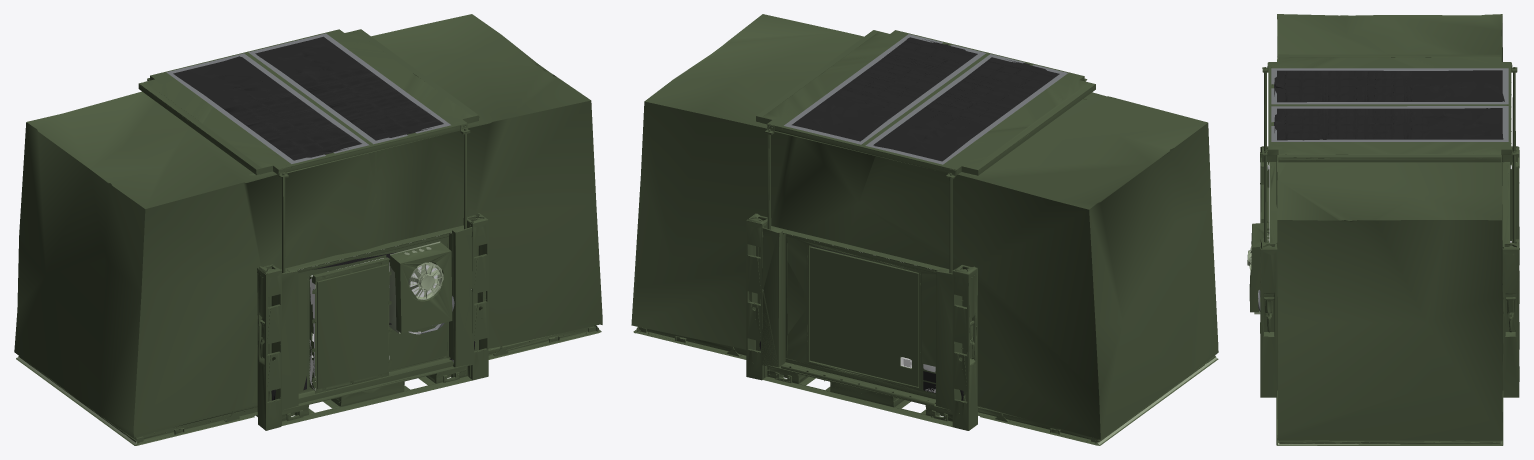
File: trecc-deployed-green.glb
3 renders of one model, left to right at view 1: azimuth 30°, elevation 25°; view 2: azimuth 150°, elevation 25°; view 3: azimuth 270°, elevation 25°, orthographic. The views are drawn at different scales.
Parts seen in each view (by area): view 1: Solid4340; view 2: Solid4340; view 3: Solid4340.
Boxes of the visible parts, x1,y1,x2,y2 form: Solid4340: [14, 14, 602, 445]; Solid4340: [631, 14, 1218, 445]; Solid4340: [1247, 14, 1519, 445].
Bounding box in the file's own units: 4.51 × 2.35 × 2.39.
